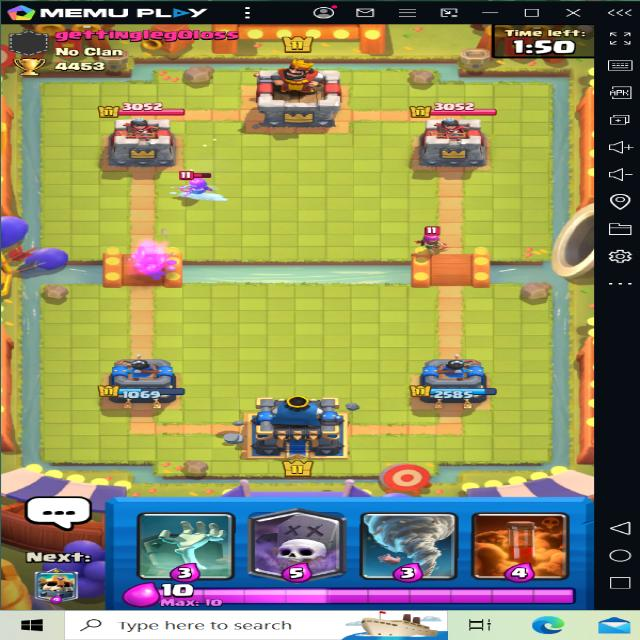archer: (415, 221, 459, 254), (177, 168, 207, 200)
